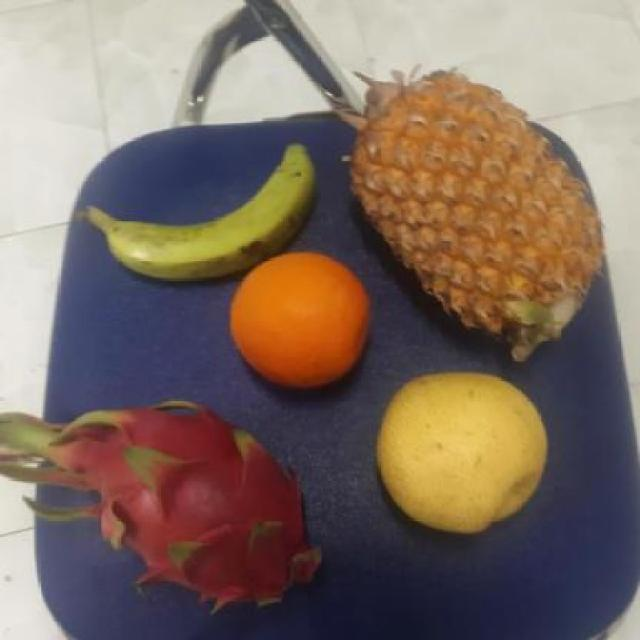banana: (84, 142, 333, 282)
dragon fruit: (63, 406, 334, 606)
oren: (226, 252, 380, 392)
pear: (371, 367, 555, 538)
pineapple: (354, 78, 601, 356)
